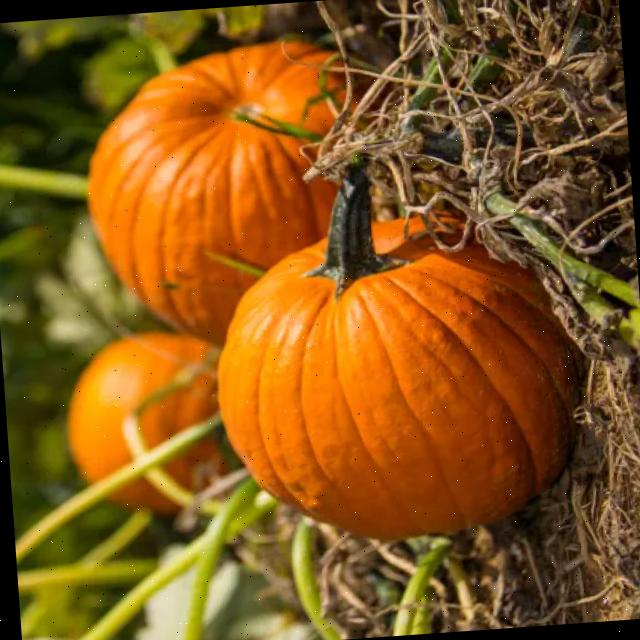pumpkin: (218, 162, 575, 537), (88, 42, 344, 342), (68, 333, 217, 479), (167, 436, 223, 485), (112, 477, 174, 511)
